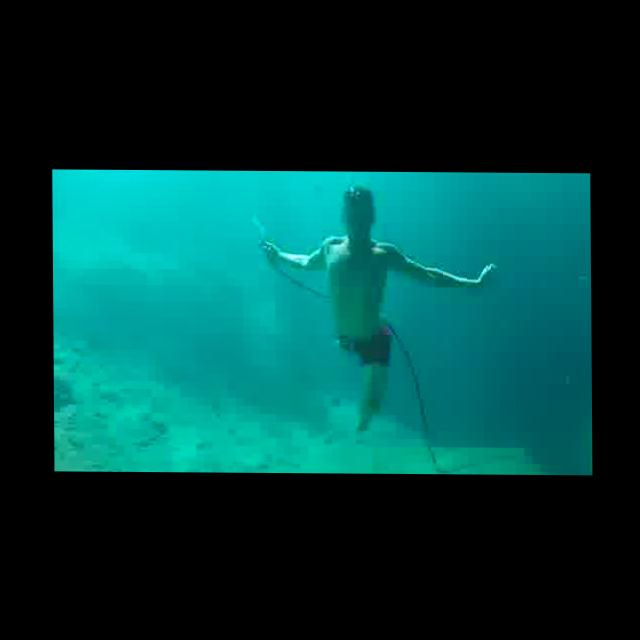human: (252, 176, 499, 438)
